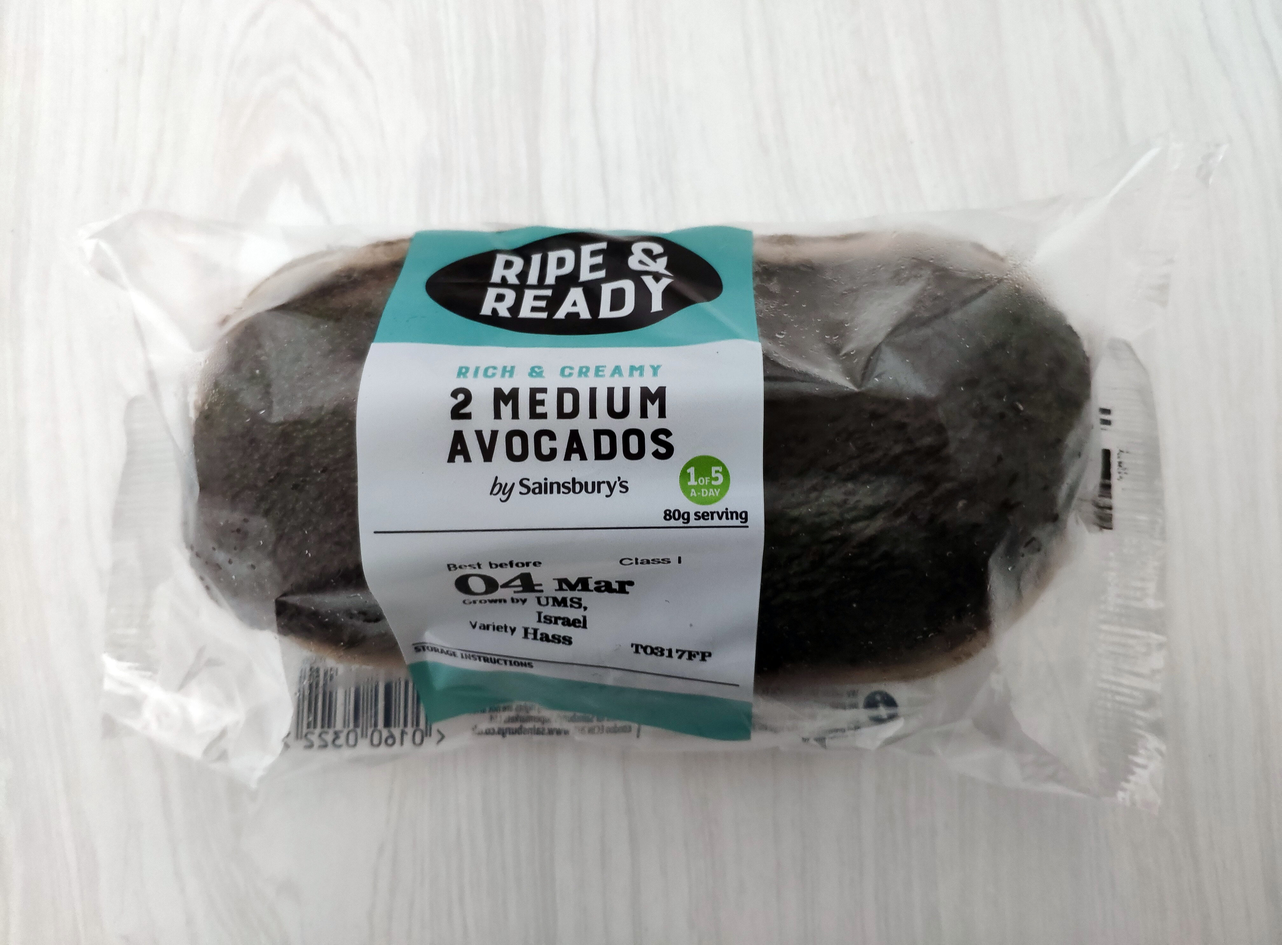Avocado: (64, 47, 1218, 898)
